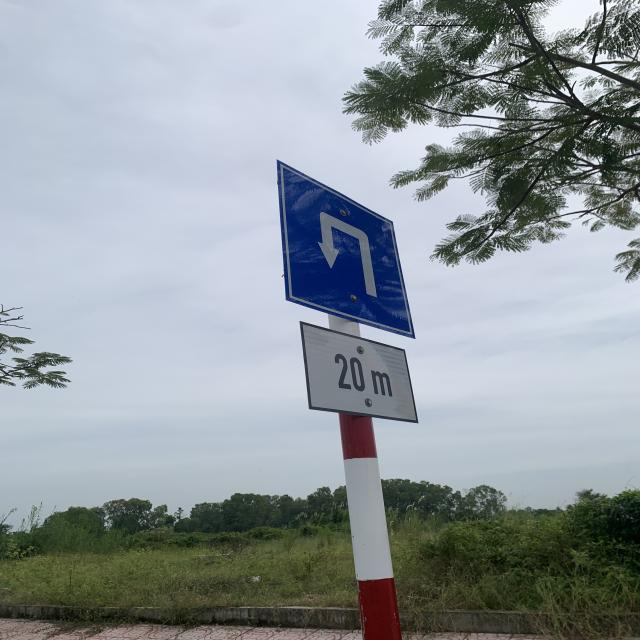Den_Giao_Thong: (277, 160, 422, 338)
